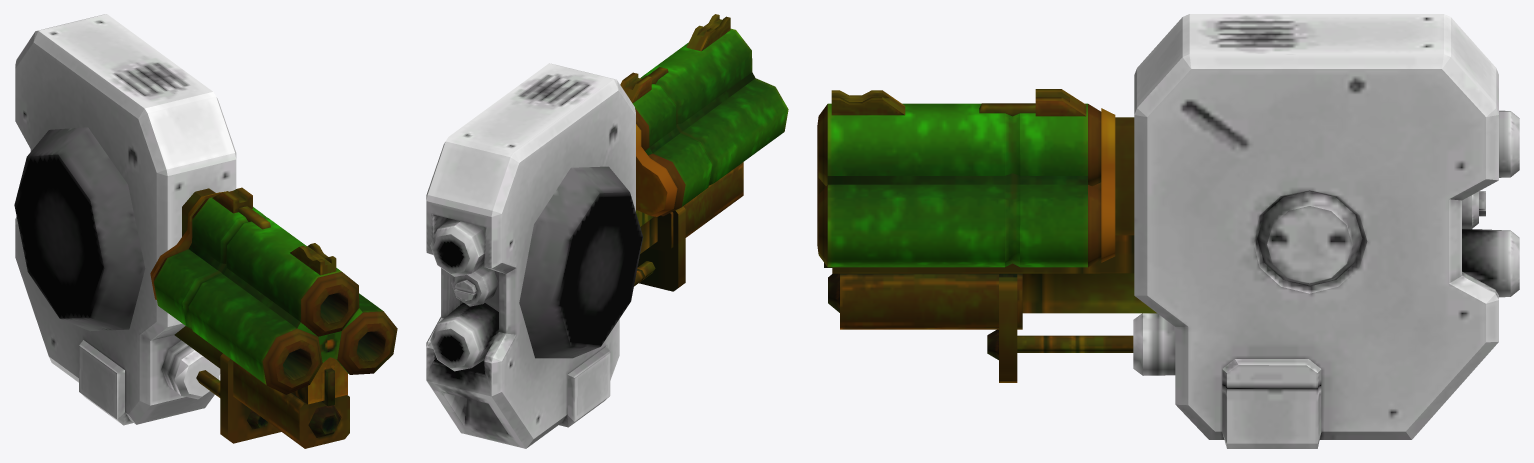
The model's file is Rob_Shotgun.FBX.
The picture shows the model from 3 angles, left to right: view 1: azimuth 30°, elevation 25°; view 2: azimuth 150°, elevation 25°; view 3: azimuth 270°, elevation 25°; orthographic projection. The views are drawn at different scales.
Visible parts, largest first — view 1: Rob_shotgun_LOD01; view 2: Rob_shotgun_LOD01; view 3: Rob_shotgun_LOD01.
Boxes of the visible parts, x1,y1,x2,y2 form: Rob_shotgun_LOD01: [14, 14, 397, 448]; Rob_shotgun_LOD01: [426, 14, 788, 448]; Rob_shotgun_LOD01: [817, 14, 1519, 448].
Bounding box in the file's own units: 16.95 × 38.53 × 62.62.
Materials: 3 (3 with a texture image).
